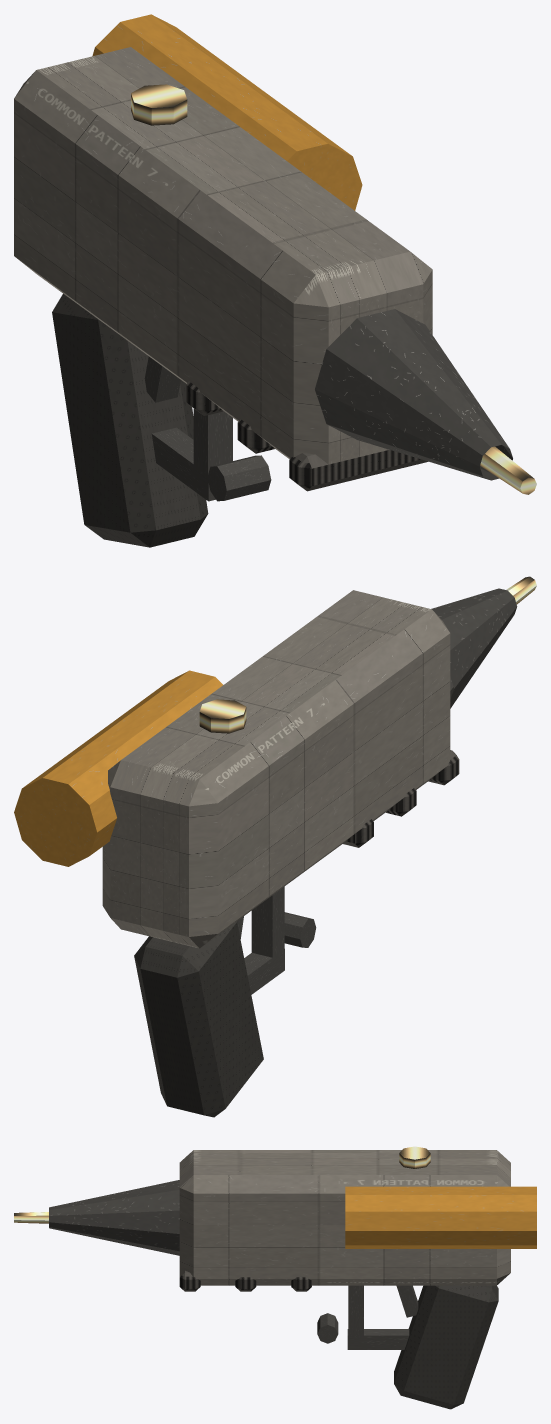
The model's file is tool_repair.obj.
The picture shows the model from 3 angles, top to bottom: view 1: azimuth 30°, elevation 25°; view 2: azimuth 150°, elevation 25°; view 3: azimuth 270°, elevation 25°; orthographic projection. The views are drawn at different scales.
Visible parts, largest first — view 1: tool_repair; view 2: tool_repair; view 3: tool_repair.
Boxes of the visible parts, x1,y1,x2,y2 form: tool_repair: (14, 14, 536, 547); tool_repair: (14, 576, 536, 1117); tool_repair: (14, 1146, 536, 1409).
Bounding box in the file's own units: 0.076 × 0.1586 × 0.3.
Materials: 1 (1 with a texture image).
